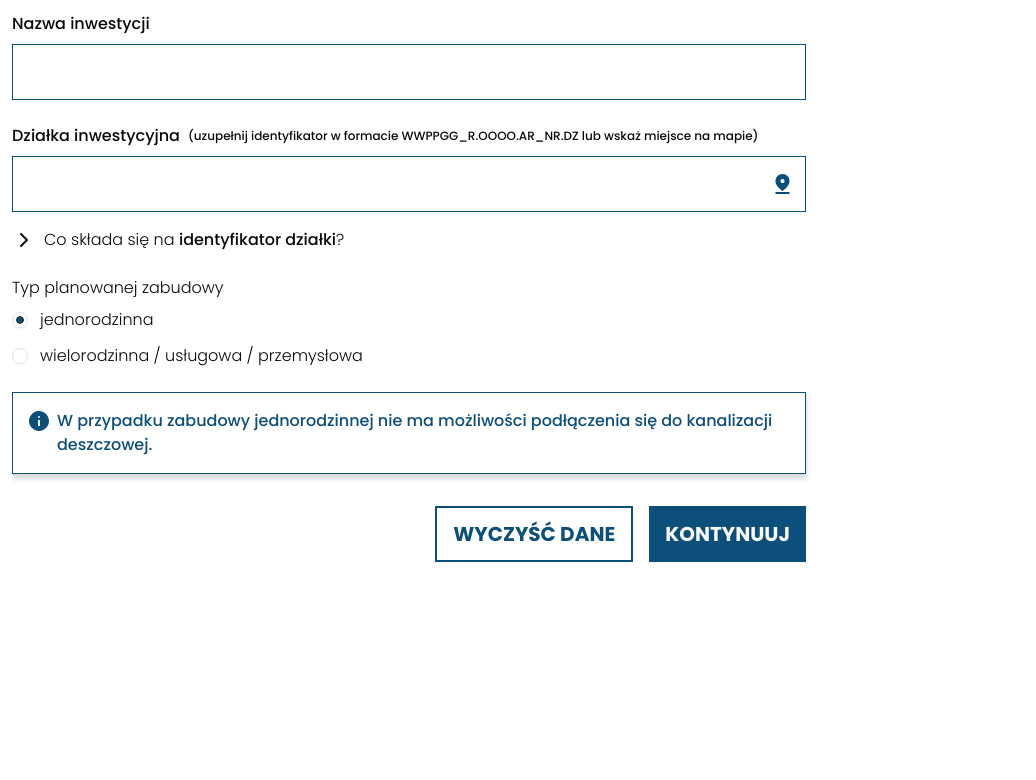
InwestycjaForm component › should show Geoportal link in collapsible
Click the button "Co składa się na identyfikator działki?" at coordinates (111, 240), box [12,228,806,252]
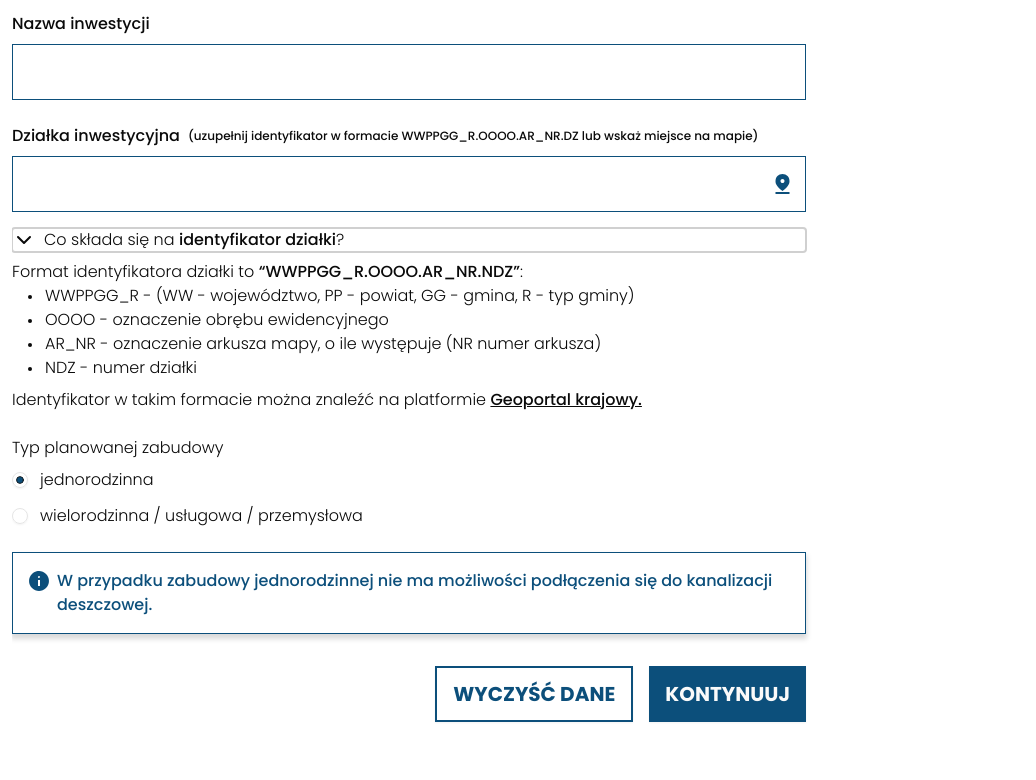
Check: the link "Geoportal krajowy." is shown, box [490,388,642,411]
